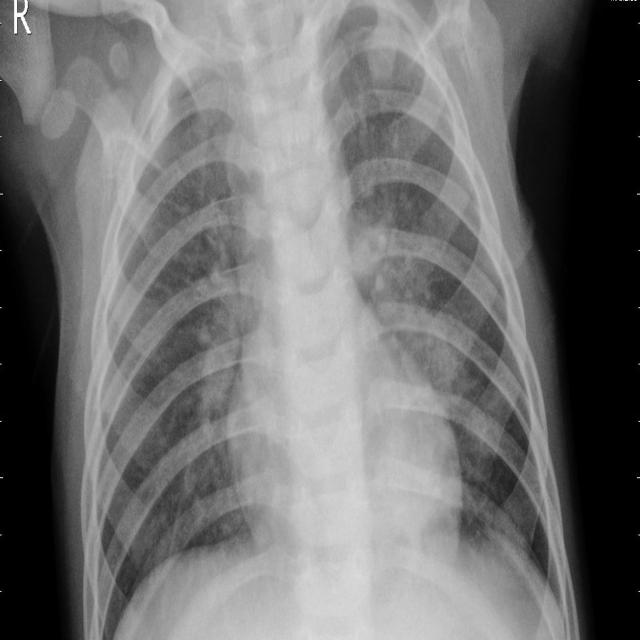low-pneumonia: (349, 203, 459, 405), (185, 206, 242, 465)
